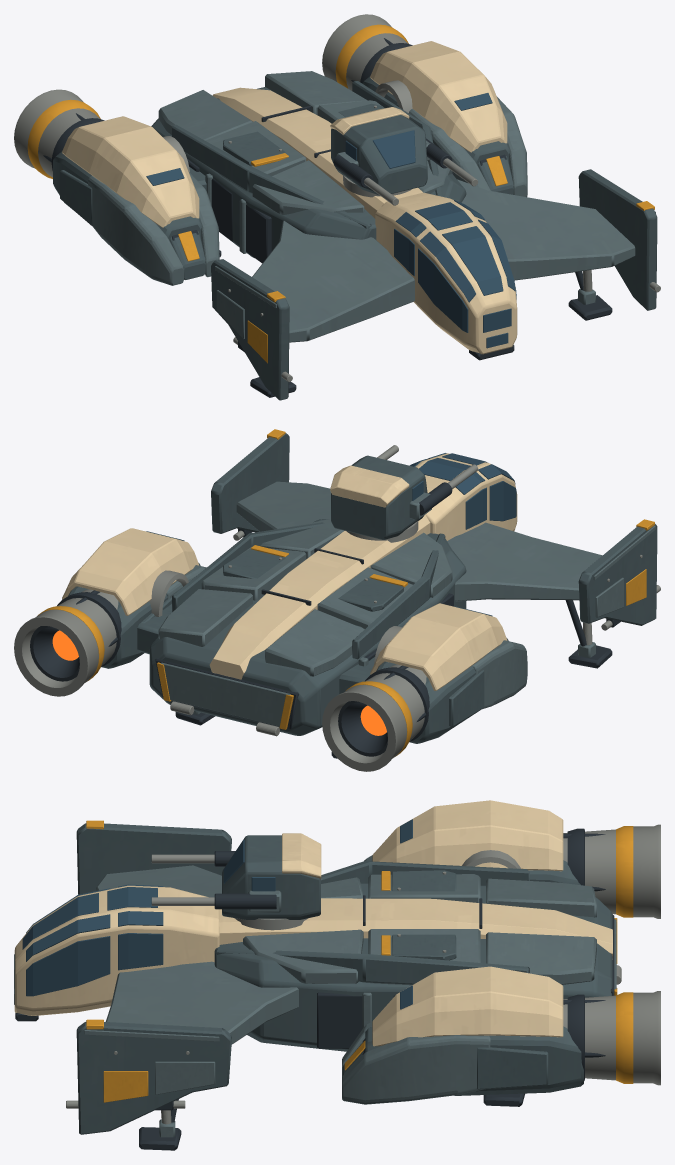
Rendered from cutlass_01.glb.
The picture shows the model from 3 angles, top to bottom: view 1: azimuth 30°, elevation 25°; view 2: azimuth 150°, elevation 25°; view 3: azimuth 270°, elevation 25°; orthographic projection. The views are drawn at different scales.
Visible parts, largest first — view 1: VH_Consolidated_LOD0; view 2: VH_Consolidated_LOD0; view 3: VH_Consolidated_LOD0.
Part boxes in pixels (x1,y1,x2,y2): VH_Consolidated_LOD0: (14, 14, 660, 400); VH_Consolidated_LOD0: (14, 429, 660, 771); VH_Consolidated_LOD0: (14, 800, 660, 1150).
Bounding box in the file's own units: 12.43 × 5.75 × 16.
Materials: 8 (4 with a texture image).
